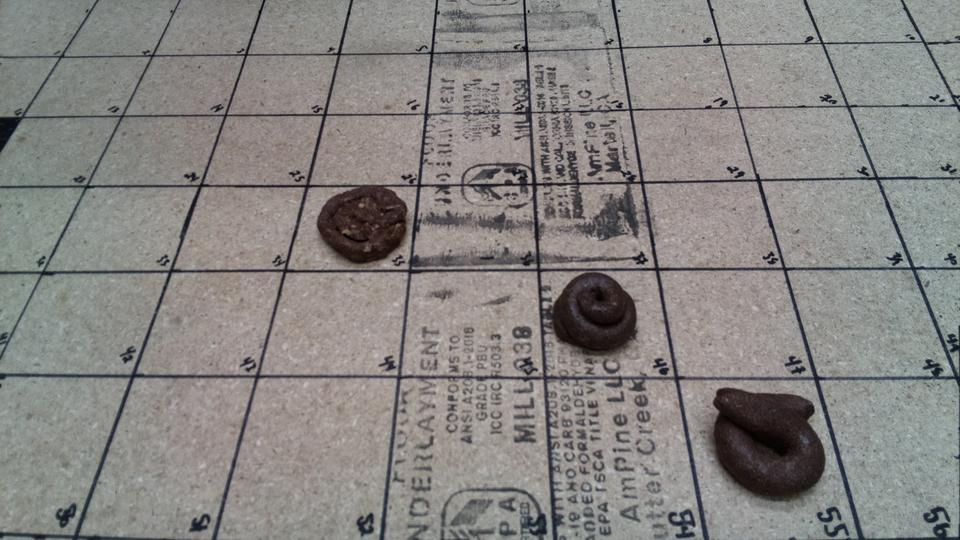poop: (315, 162, 402, 251)
